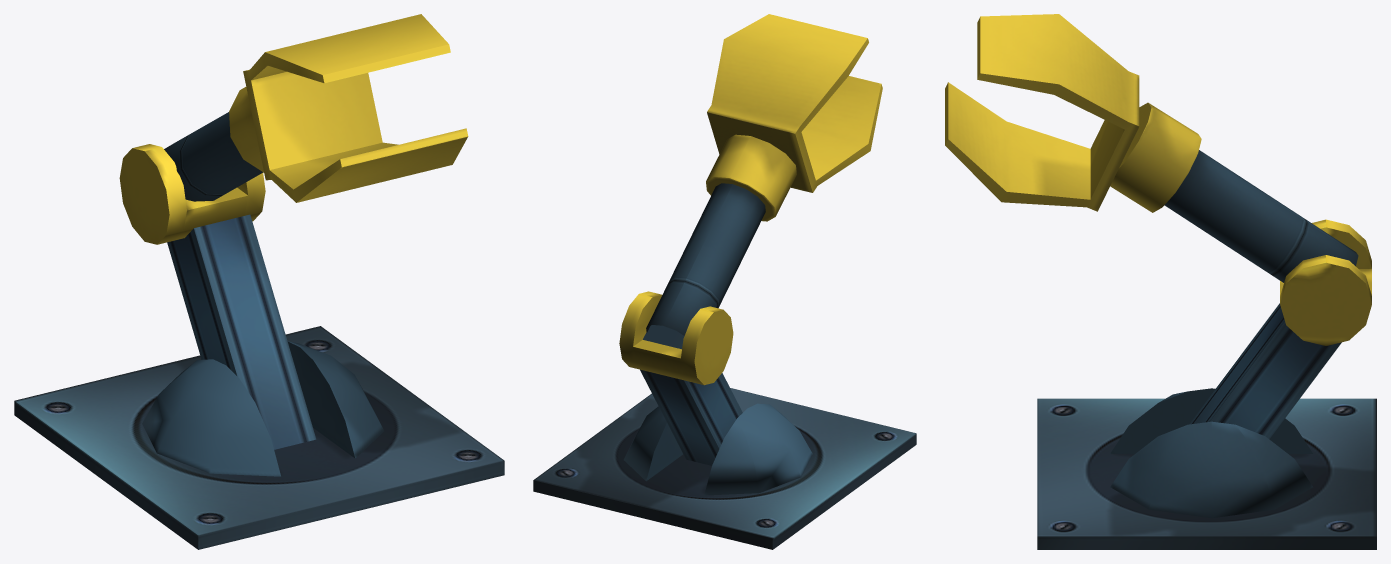
Rendered from Tx_prop_robotic arm_25.fbx.
3 views of the same model, side by side, from view 1: azimuth 30°, elevation 25°; view 2: azimuth 150°, elevation 25°; view 3: azimuth 270°, elevation 25° (orthographic). The views are drawn at different scales.
Parts seen in each view (by area): view 1: Tx_prop_robotic_arm_9; view 2: Tx_prop_robotic_arm_9; view 3: Tx_prop_robotic_arm_9.
Boxes of the visible parts, bbox=[...] form: Tx_prop_robotic_arm_9: bbox=[14, 14, 504, 549]; Tx_prop_robotic_arm_9: bbox=[533, 14, 916, 549]; Tx_prop_robotic_arm_9: bbox=[945, 14, 1376, 549].
Size of the model in its own units: 5.33 by 8.72 by 7.05.
Materials: 1 (1 with a texture image).
